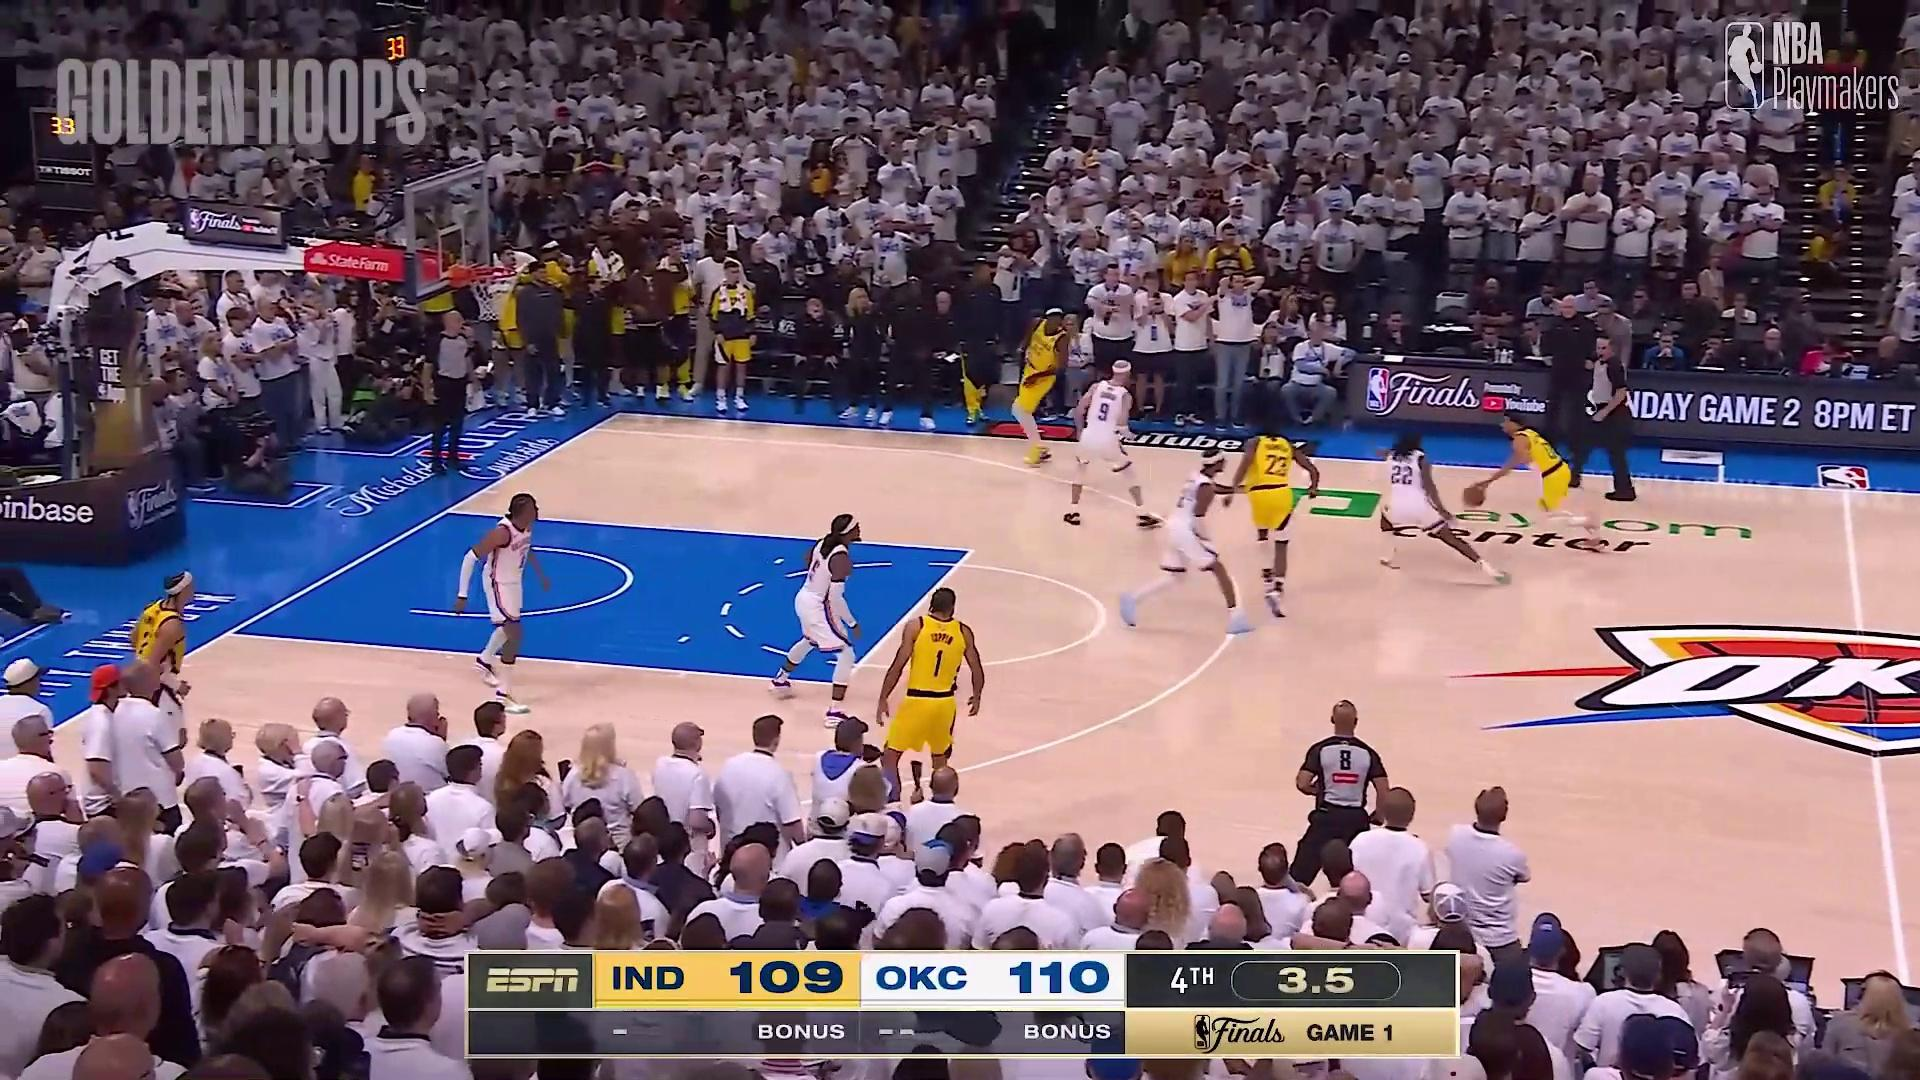ball: (1460, 480, 1490, 509)
hoop: (464, 253, 526, 330)
